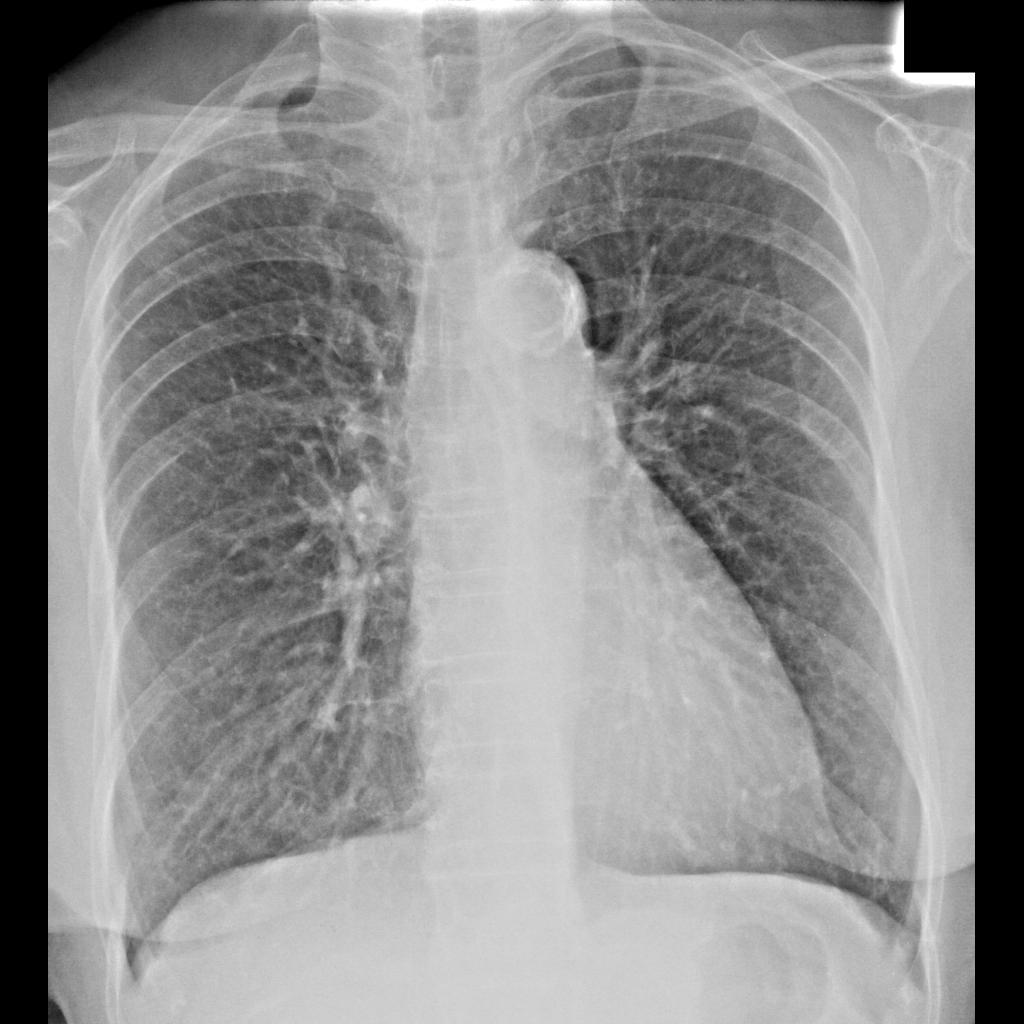Nodule: (317, 468, 421, 572)
